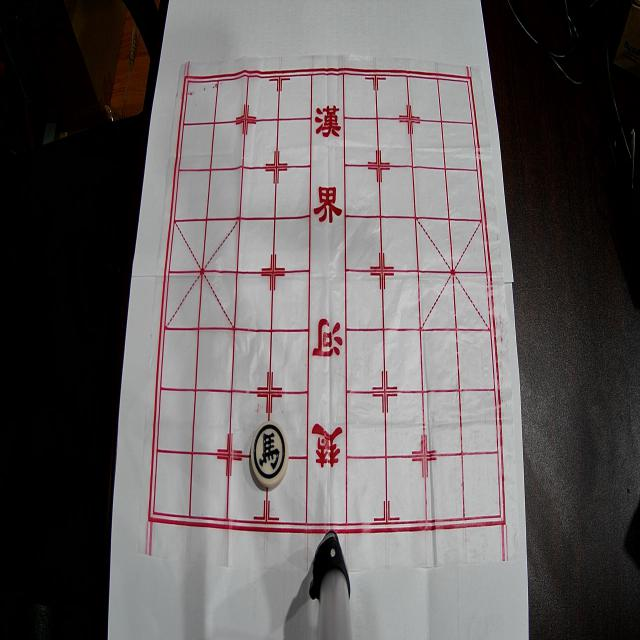black-horse: (251, 421, 289, 487)
